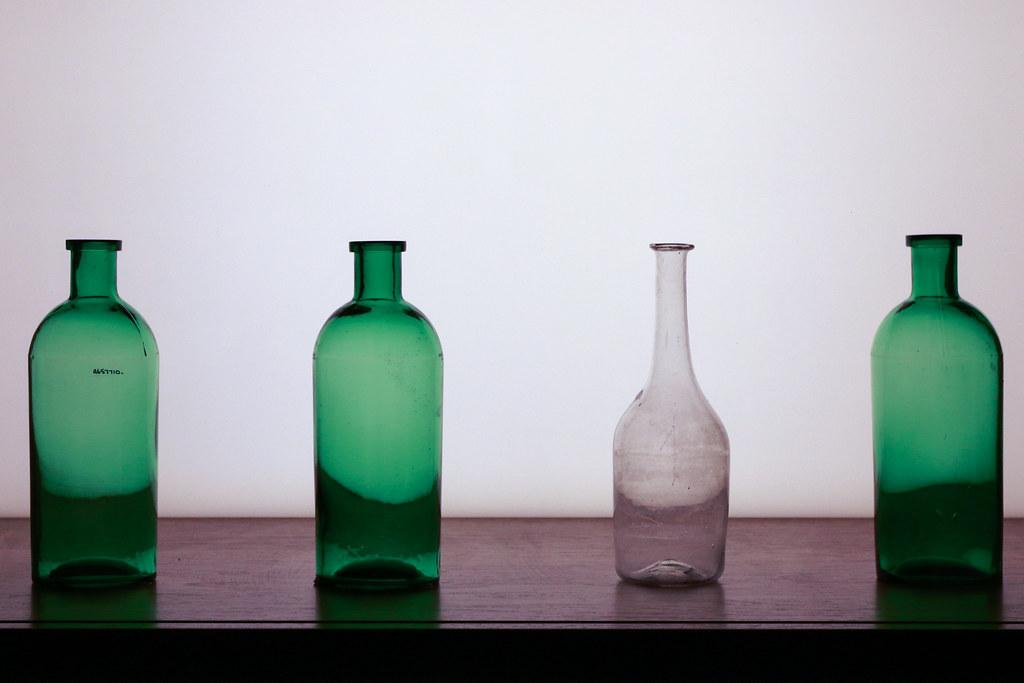bottle: (871, 234, 1005, 588), (312, 240, 444, 592), (28, 238, 160, 589), (612, 242, 731, 588)
